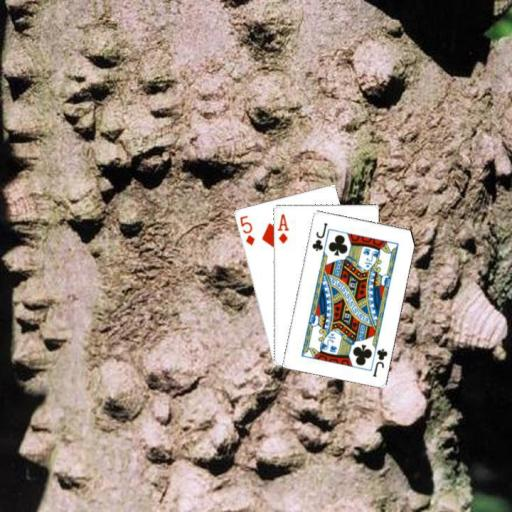5D: (236, 212, 256, 247)
AD: (274, 211, 290, 245)
JC: (309, 219, 329, 252), (369, 345, 389, 377)
